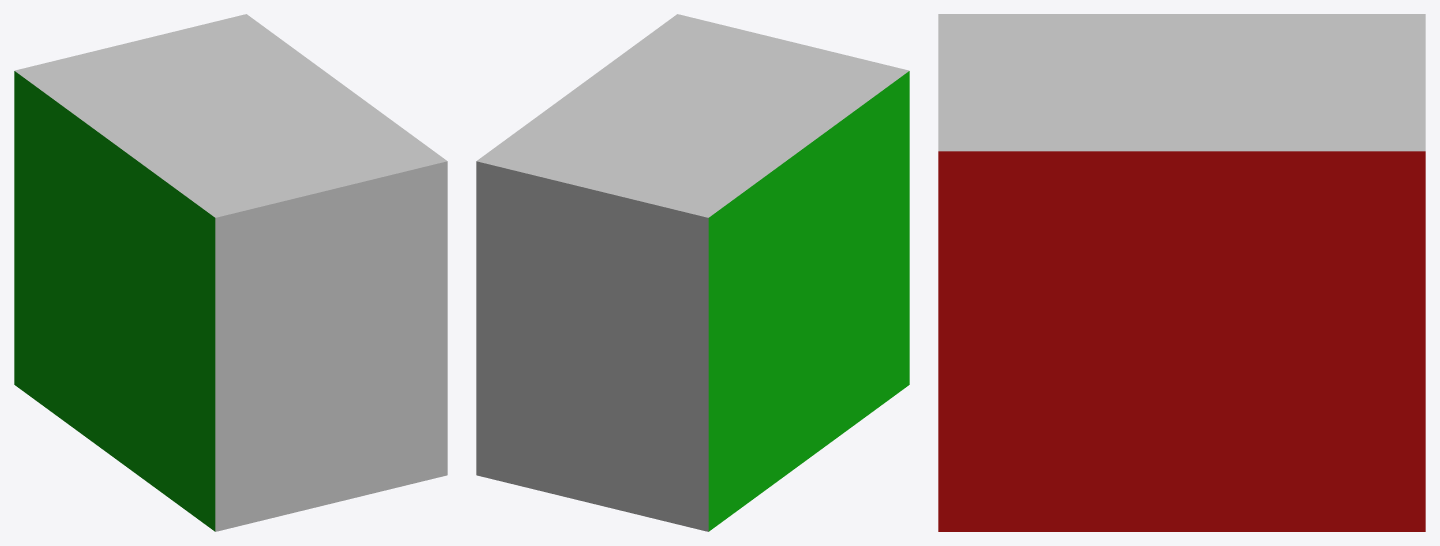
The model's file is cornell-box-exploded.obj.
3 views of the same model, side by side, from view 1: azimuth 30°, elevation 25°; view 2: azimuth 150°, elevation 25°; view 3: azimuth 270°, elevation 25° (orthographic). The views are drawn at different scales.
Parts seen in each view (by area): view 1: Box01; view 2: Box01; view 3: Box01.
Part boxes in pixels (x1=…): Box01: x1=14, y1=14, x2=447, y2=531; Box01: x1=476, y1=14, x2=909, y2=531; Box01: x1=938, y1=14, x2=1425, y2=531.
Bounding box in the file's own units: 13.25 × 17.12 × 19.88.
